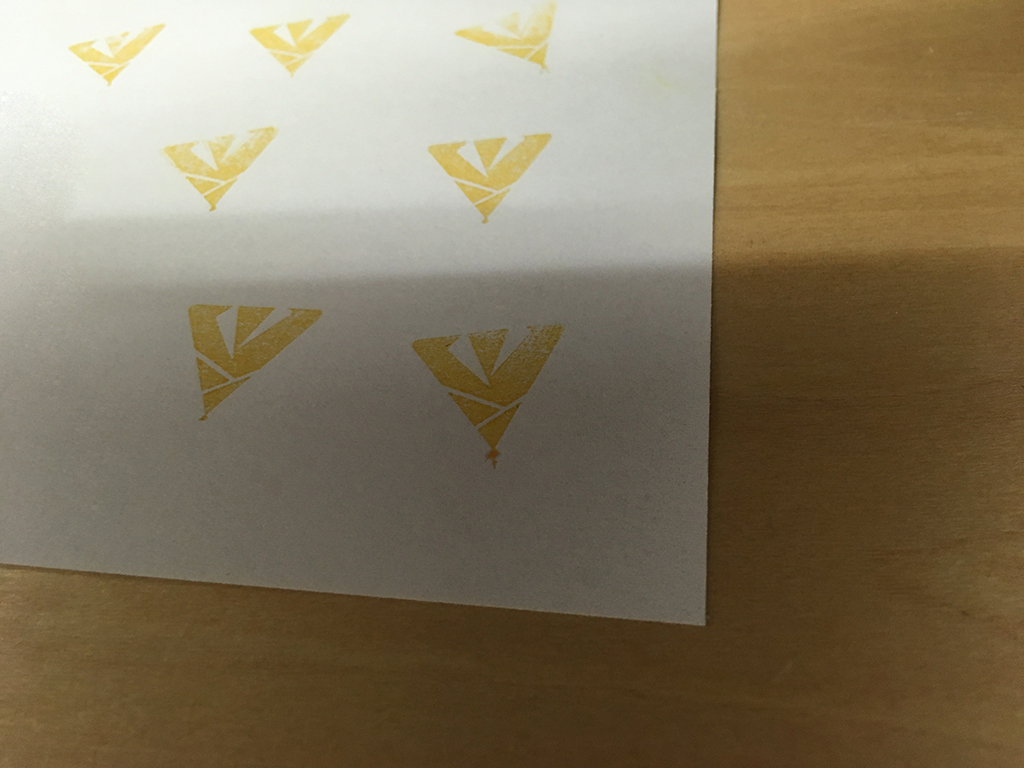tent: (405, 316, 582, 472), (170, 294, 329, 428), (422, 122, 560, 234), (153, 116, 279, 226), (240, 10, 366, 92), (54, 11, 171, 95), (451, 1, 560, 79)
